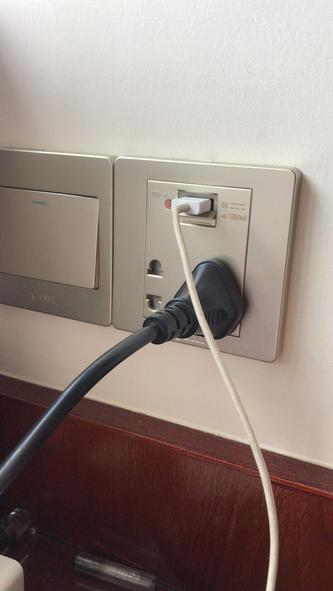switch: (1, 180, 108, 294)
